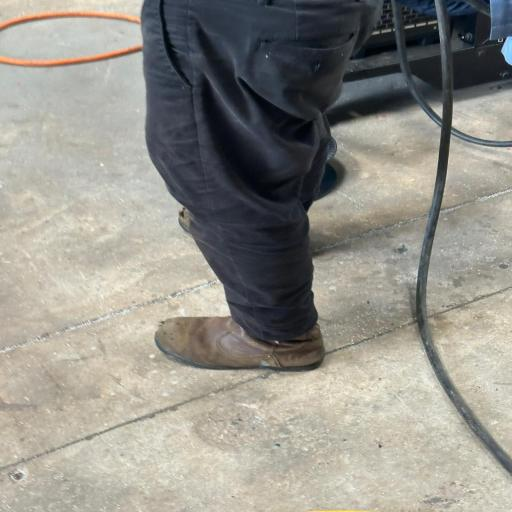safety_shoe: (145, 293, 342, 382)
